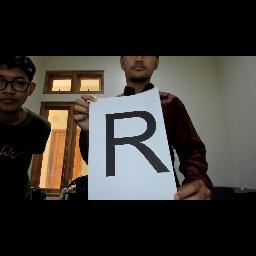r: (96, 106, 176, 192)
